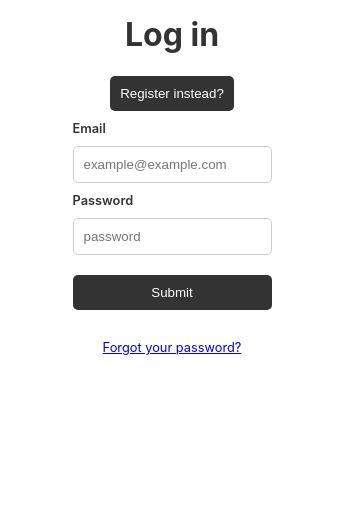
Scenario: auth page › has button to switch to login mode
The width and height of the screenshot is (344, 516).
Step 1. Click the button "Register instead?" → {"x": 172, "y": 94}, box [110,76,234,111]
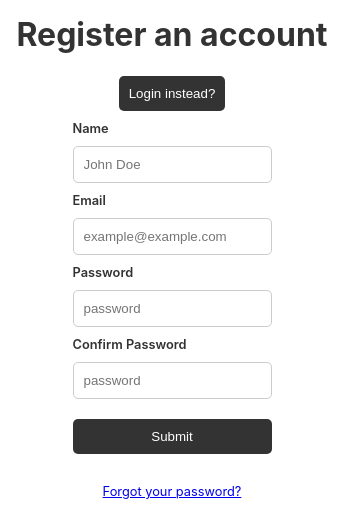
Expected: the heading "Register an account" is shown, [16,16,328,55]
Step 2. Click the button "Login instead?" → {"x": 173, "y": 94}, box [119,76,226,111]
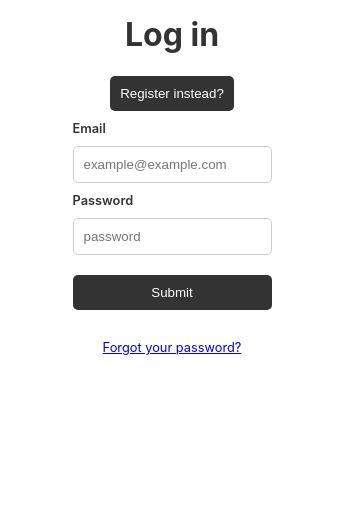
Expected: the heading "Log in" is shown, [125,16,219,55]
